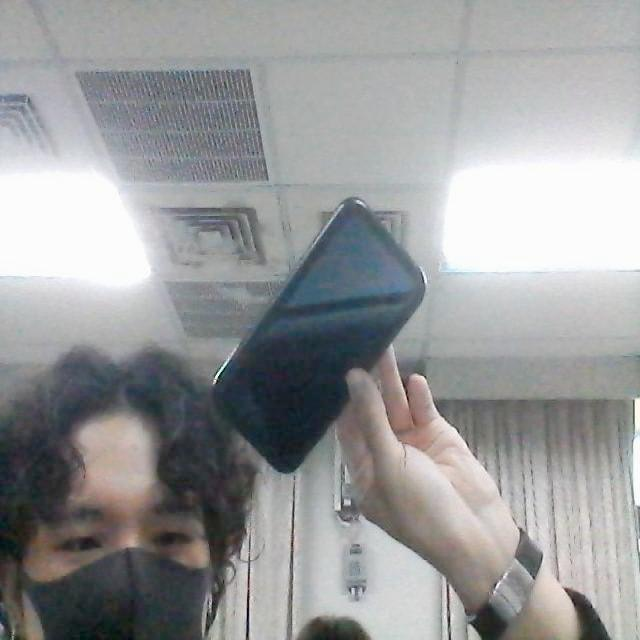phone: (205, 183, 437, 487)
